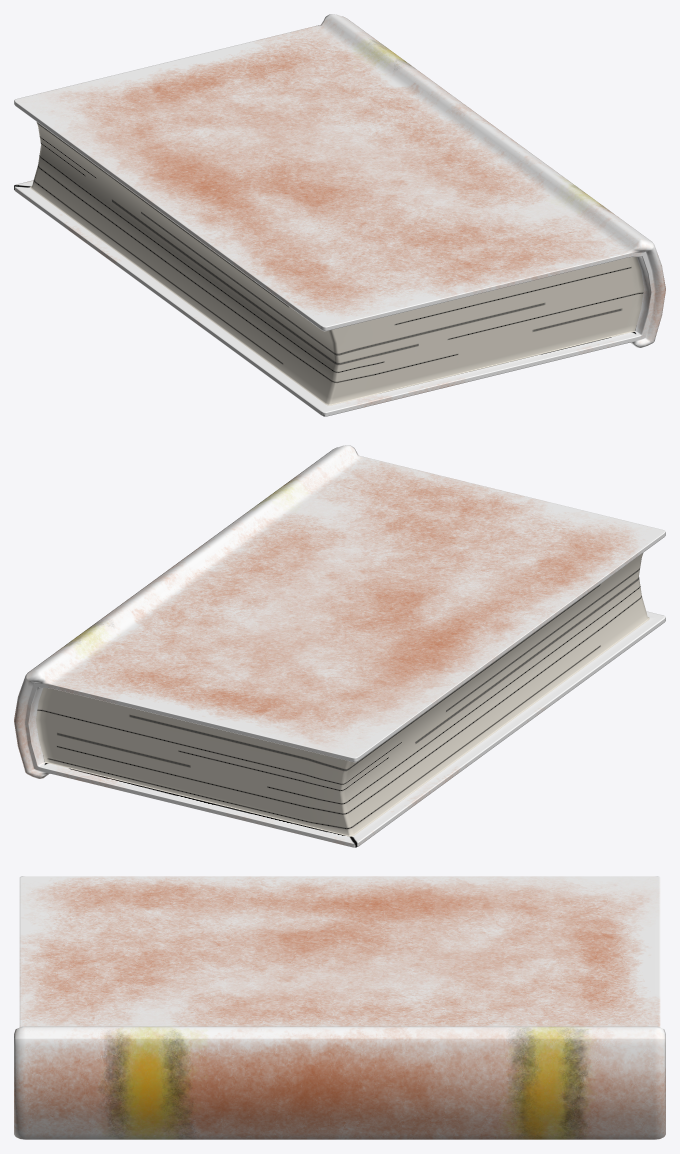
File: Book Type Two.fbx
The picture shows the model from 3 angles, top to bottom: view 1: azimuth 30°, elevation 25°; view 2: azimuth 150°, elevation 25°; view 3: azimuth 270°, elevation 25°; orthographic projection. The views are drawn at different scales.
Visible parts, largest first — view 1: Book_Base; view 2: Book_Base; view 3: Book_Base.
Boxes of the visible parts, bbox=[...] form: Book_Base: bbox=[14, 14, 665, 416]; Book_Base: bbox=[14, 445, 665, 847]; Book_Base: bbox=[14, 876, 665, 1139].
Size of the model in its own units: 108 by 32.18 by 172.
